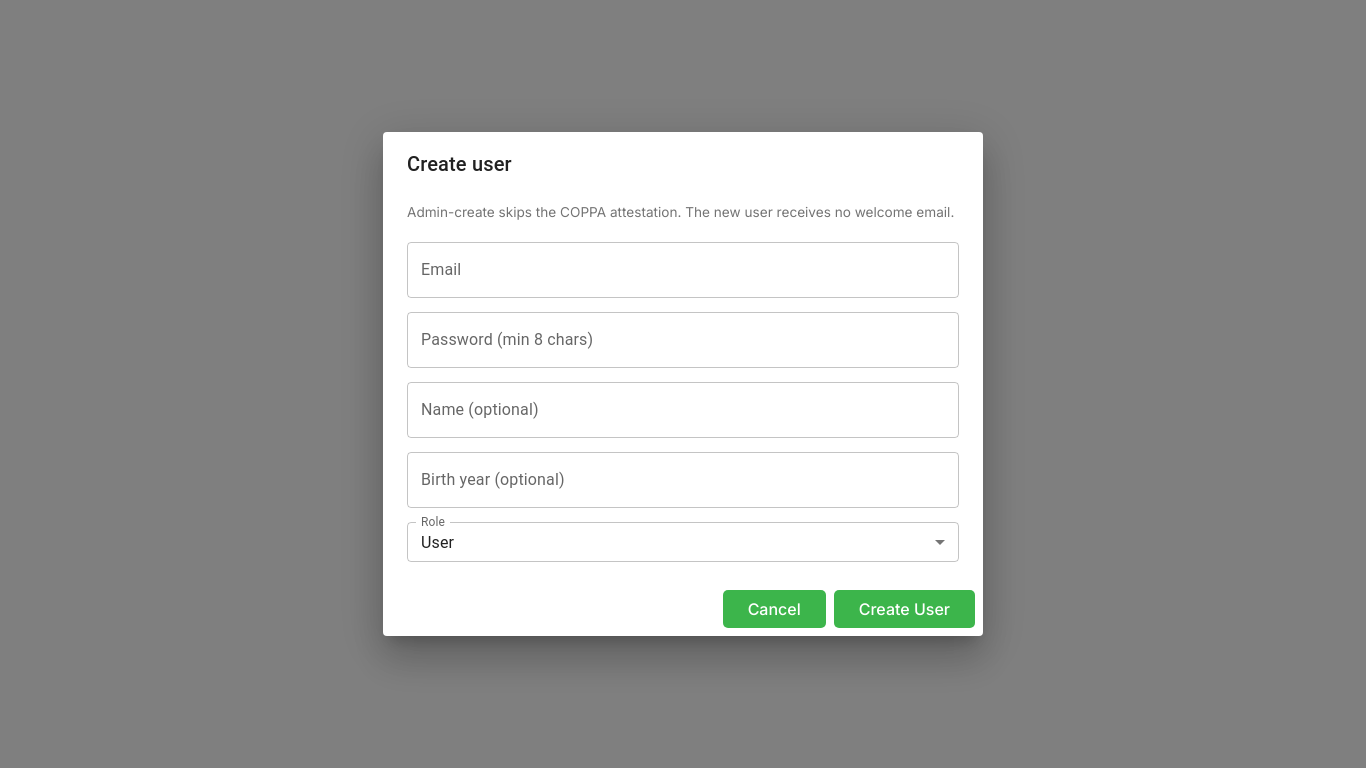
Test case: CreateUserModal › requires an email and password
This screenshot has width=1366, height=768.
Click the button "Create user".
click(904, 609)  # box [834,590,975,628]
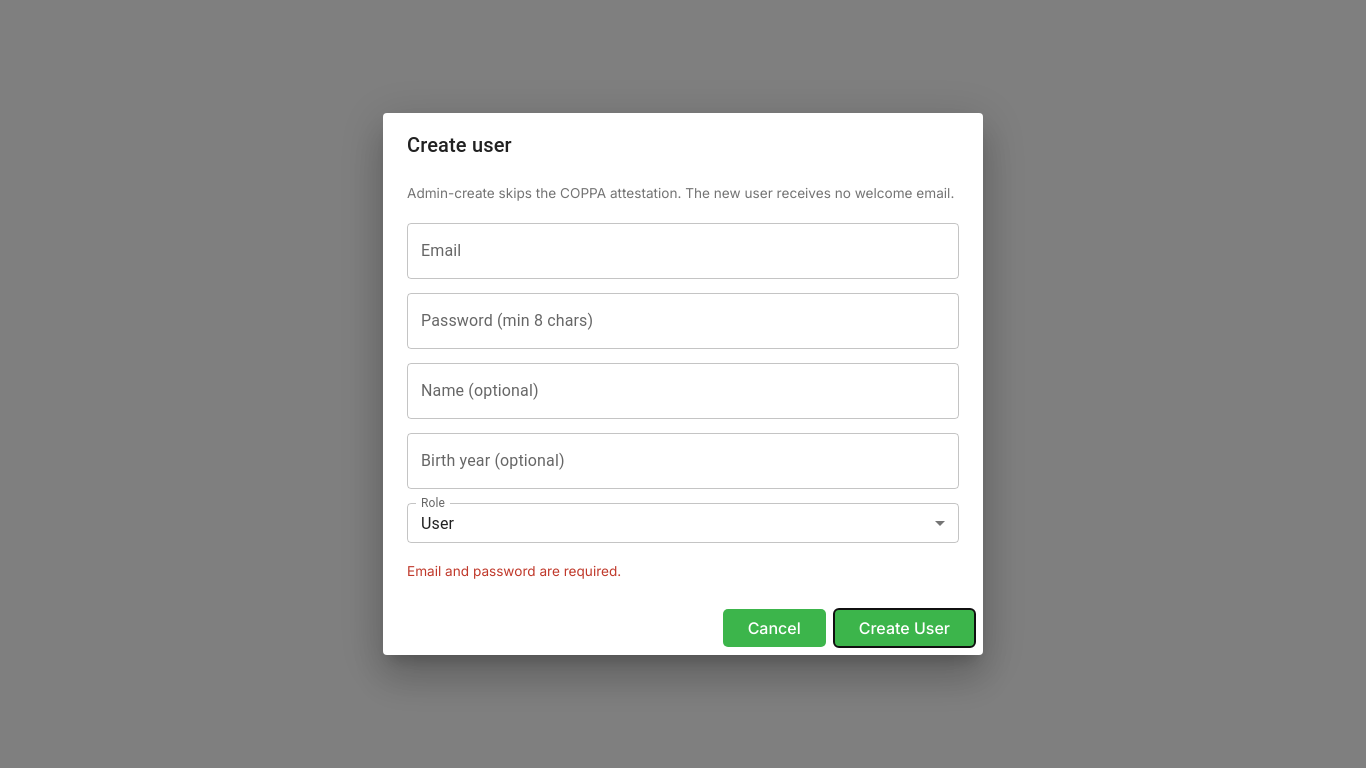
Expected: the message reads "Email and password are required.", [407,563,621,579]
